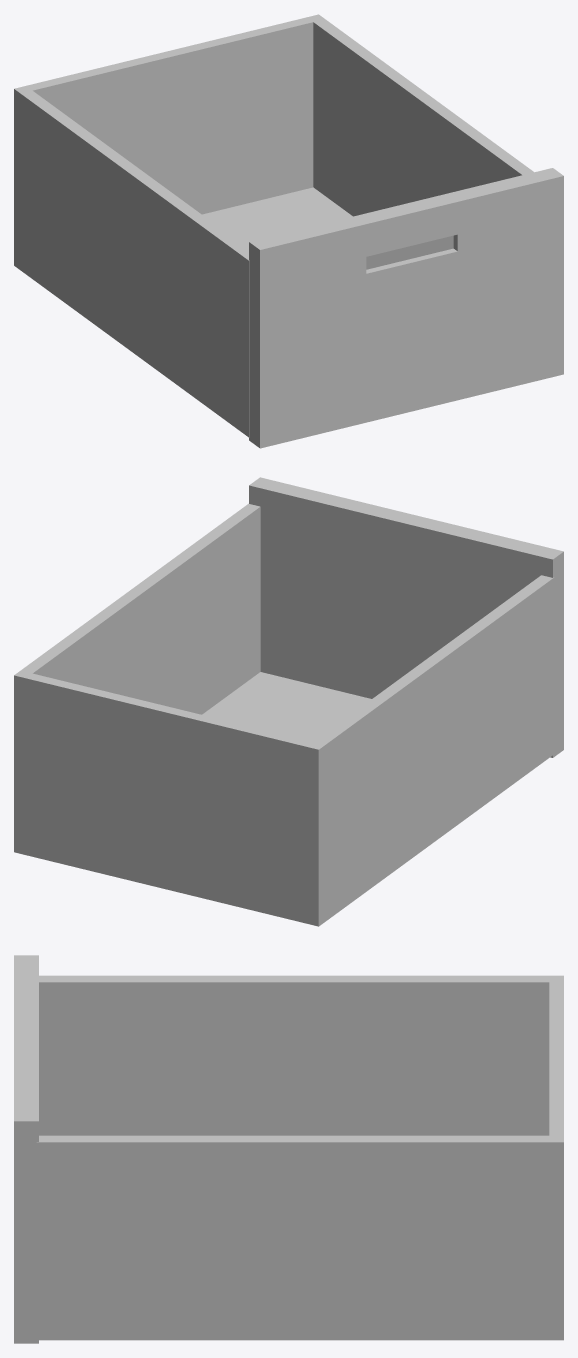
The model's file is Refrigerator3_C1_04.fbx.
3 views of the same model, one above another, from view 1: azimuth 30°, elevation 25°; view 2: azimuth 150°, elevation 25°; view 3: azimuth 270°, elevation 25° (orthographic). The views are drawn at different scales.
Parts seen in each view (by area): view 1: Refrigerator3_C1_04; view 2: Refrigerator3_C1_04; view 3: Refrigerator3_C1_04.
Part boxes in pixels (x1=…): Refrigerator3_C1_04: x1=14, y1=14, x2=563, y2=448; Refrigerator3_C1_04: x1=14, y1=477, x2=563, y2=926; Refrigerator3_C1_04: x1=14, y1=955, x2=563, y2=1343.
Size of the model in its own units: 37.44 by 23.3 by 52.26.
